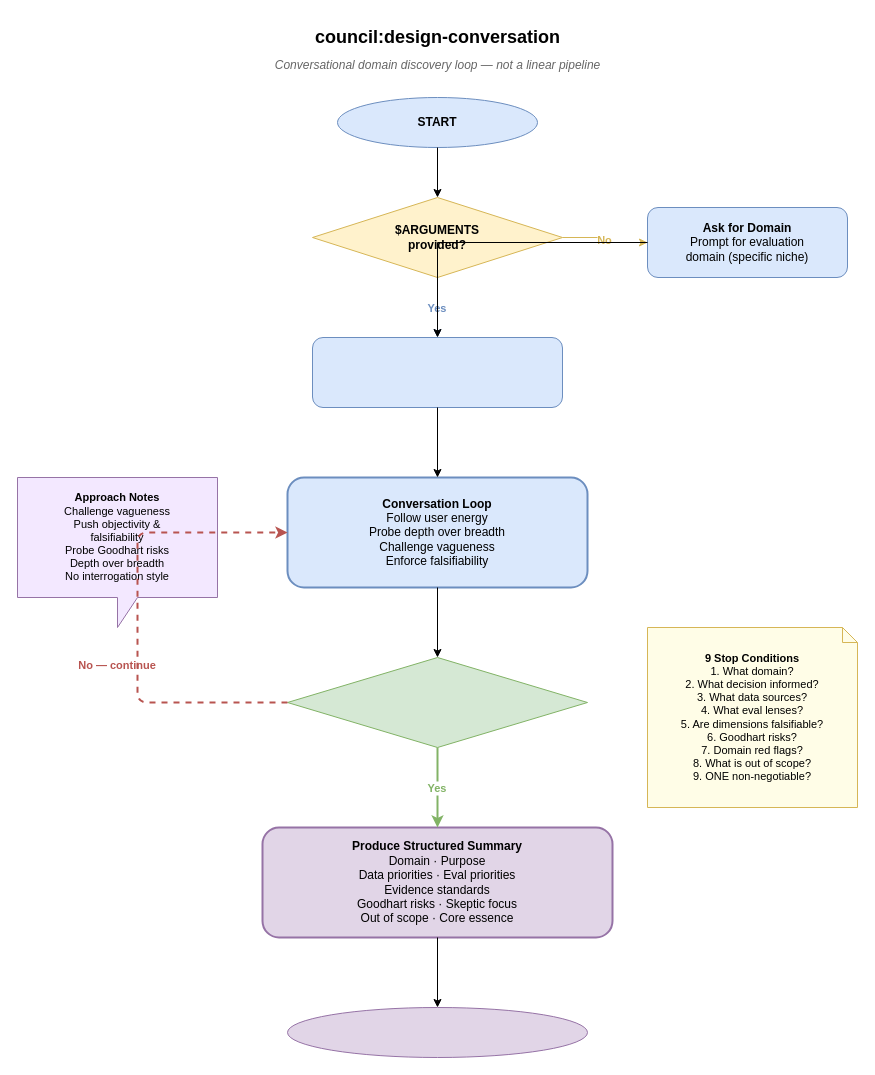
The diagram is 875 pixels wide and 1075 high, and some of its shapes have lost their labels. Here are the shapes that lost their labels. From the top down, the centre of each, then its label:
point 437,372: Open Conversation Frame the domain; ask what ideal output looks like
point 437,702: All 9 stop conditions met?
point 437,1032: RETURN to council:setup
